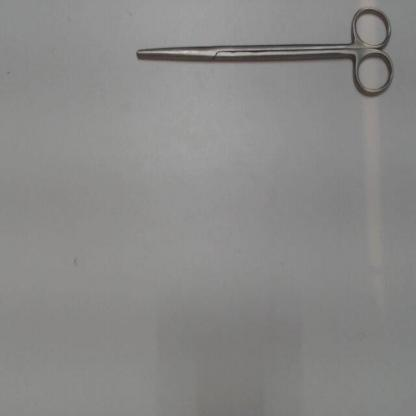9 Metzenbaum Scissors: (133, 4, 397, 102)
